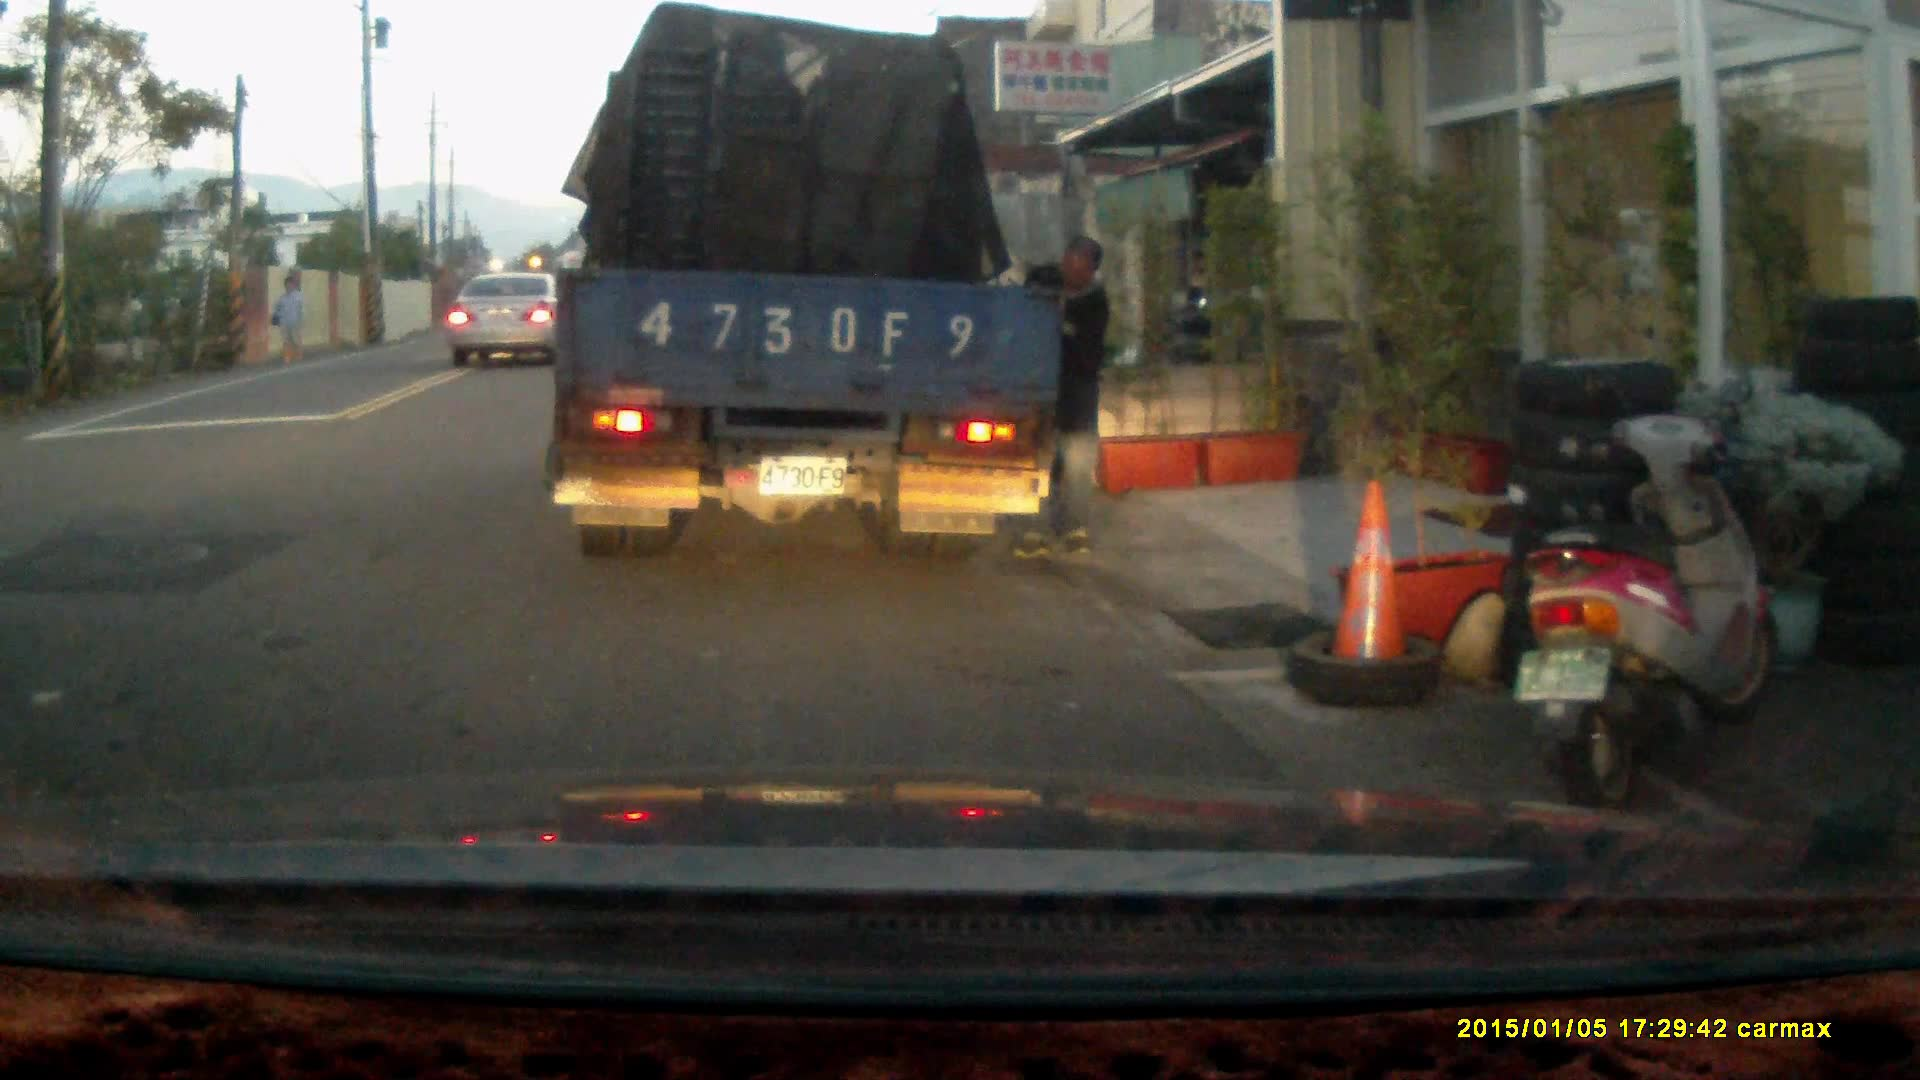pedestrian: (1003, 234, 1111, 561), (264, 270, 304, 364)
vehicle: (554, 26, 1061, 553), (451, 270, 579, 363)
